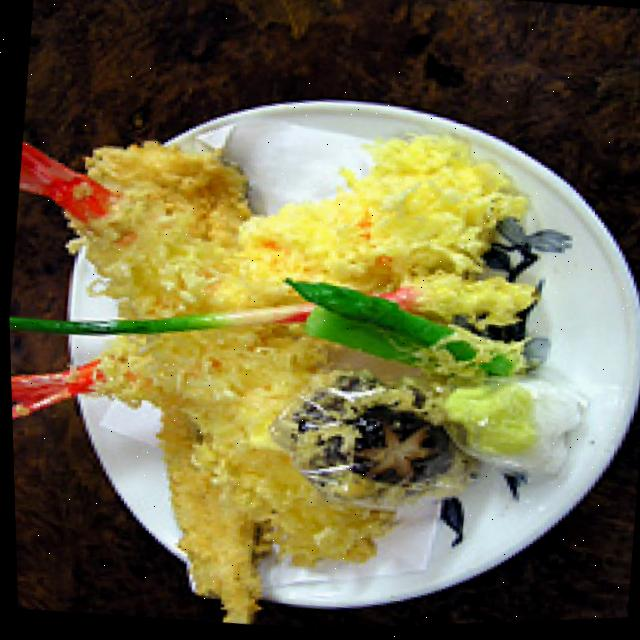熟制海鲜: (2, 53, 640, 640)
